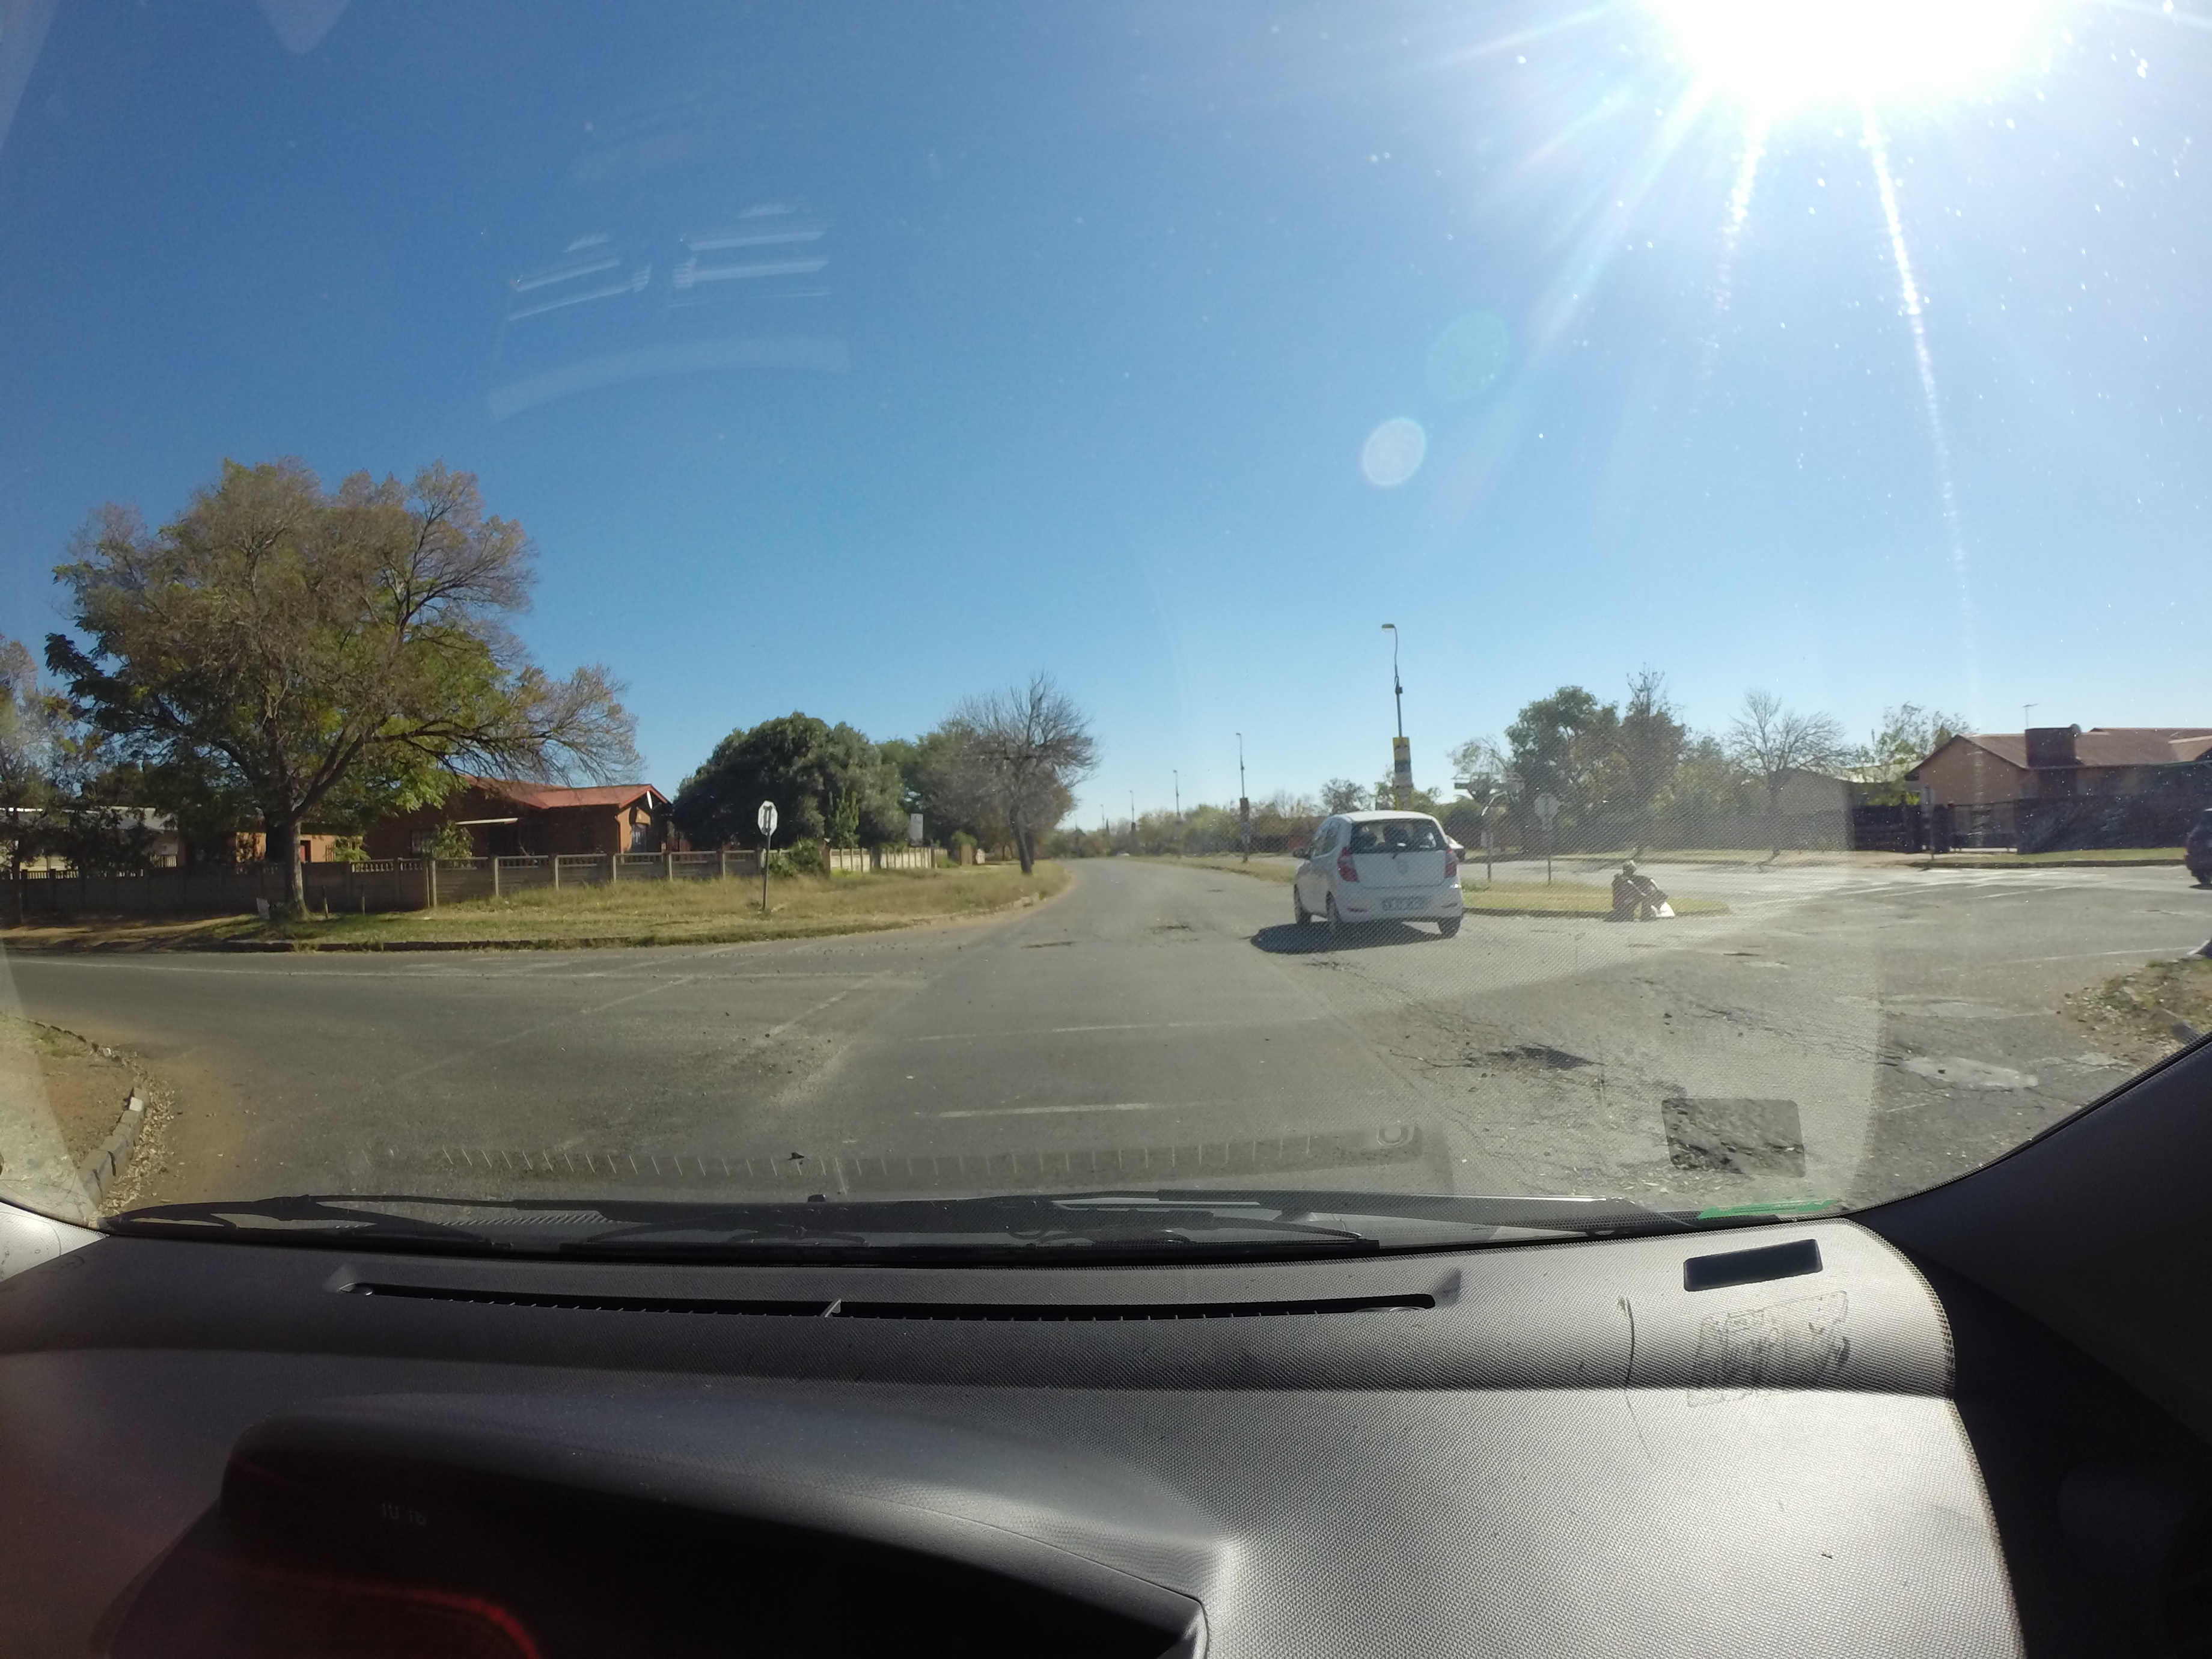pothole: (1338, 1002, 1703, 1133)
